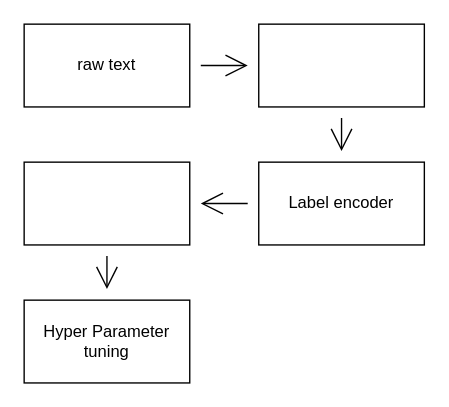
The diagram is 449 pixels wide and 407 high, and some of its shapes have lost their labels. Each missing label, with the centre of its shape:
"stratification" belongs at point 106,203.
"tfidf vectorizer" belongs at point 340,65.
